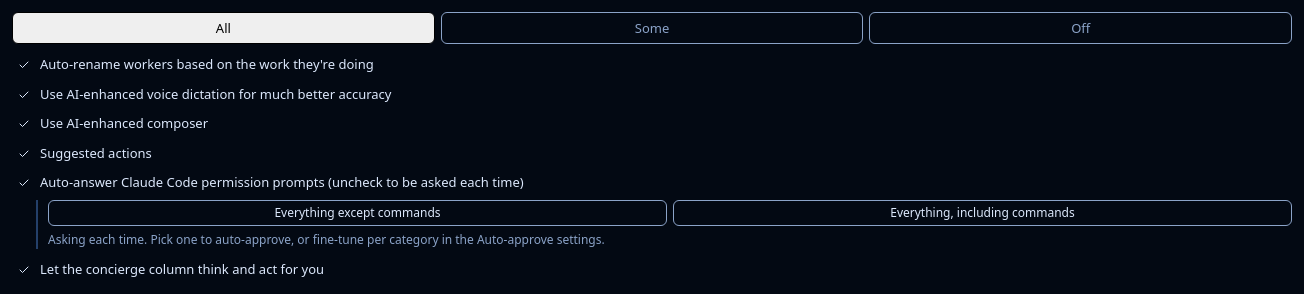
Test case: AiFeaturesMenu › auto-approve scope sub-choice › is shown only while the Auto-answer checkbox is checked
Expected: the button "Everything except commands" is shown, [48,200,667,226]
Expected: the button "Everything, including commands" is shown, [673,200,1292,226]
Note: Uncheck the master auto-answer toggle → the nested scope disappears.
Click the checkbox labelled "Auto-answer Claude Code permission prompts": [282, 182] box [12,168,1292,198]
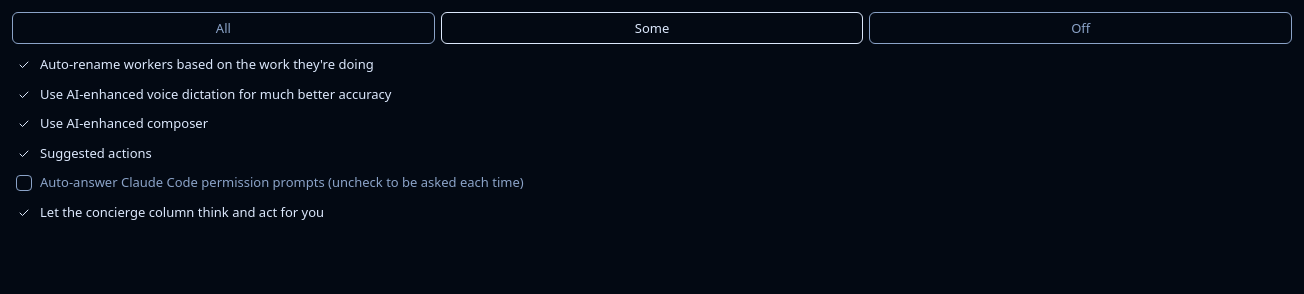
Expected: the button "Everything except commands" is gone
Expected: the button "Everything, including commands" is gone
